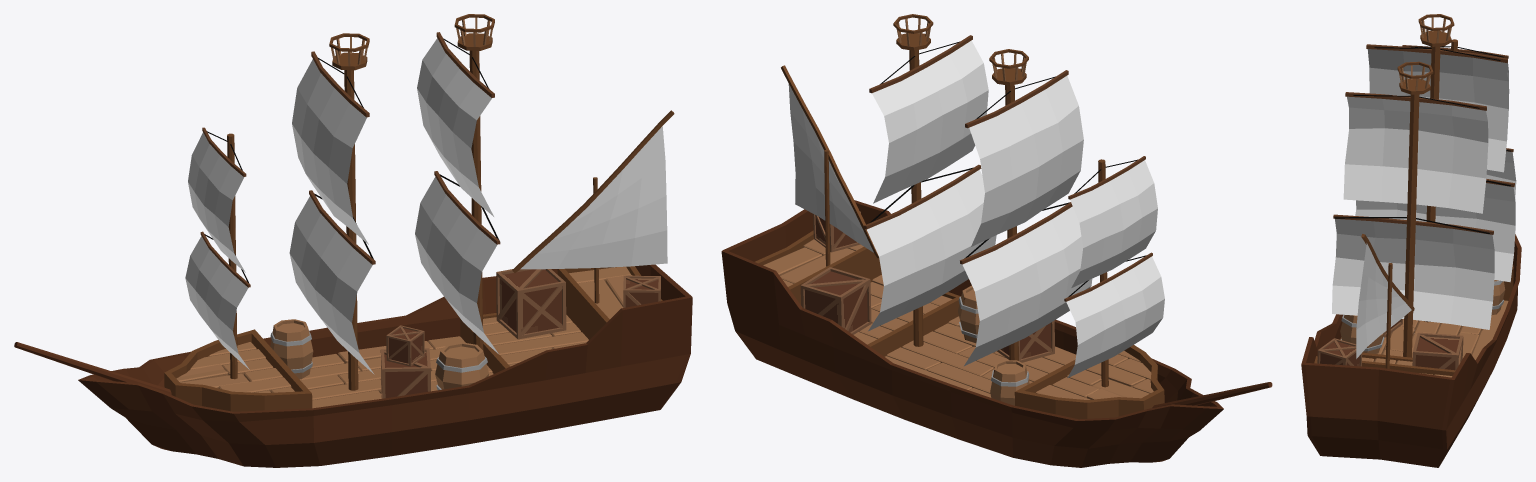
The model's file is Big boat.fbx.
3 views of the same model, side by side, from view 1: azimuth 30°, elevation 25°; view 2: azimuth 150°, elevation 25°; view 3: azimuth 270°, elevation 25° (orthographic). The views are drawn at different scales.
Visible parts, largest first — view 1: Cube.129; view 2: Cube.129; view 3: Cube.129.
Part boxes in pixels (x1,y1,x2,y2): Cube.129: (14, 14, 692, 467); Cube.129: (721, 14, 1272, 467); Cube.129: (1301, 14, 1521, 467).
Size of the model in its own units: 1026 by 630 by 375.
